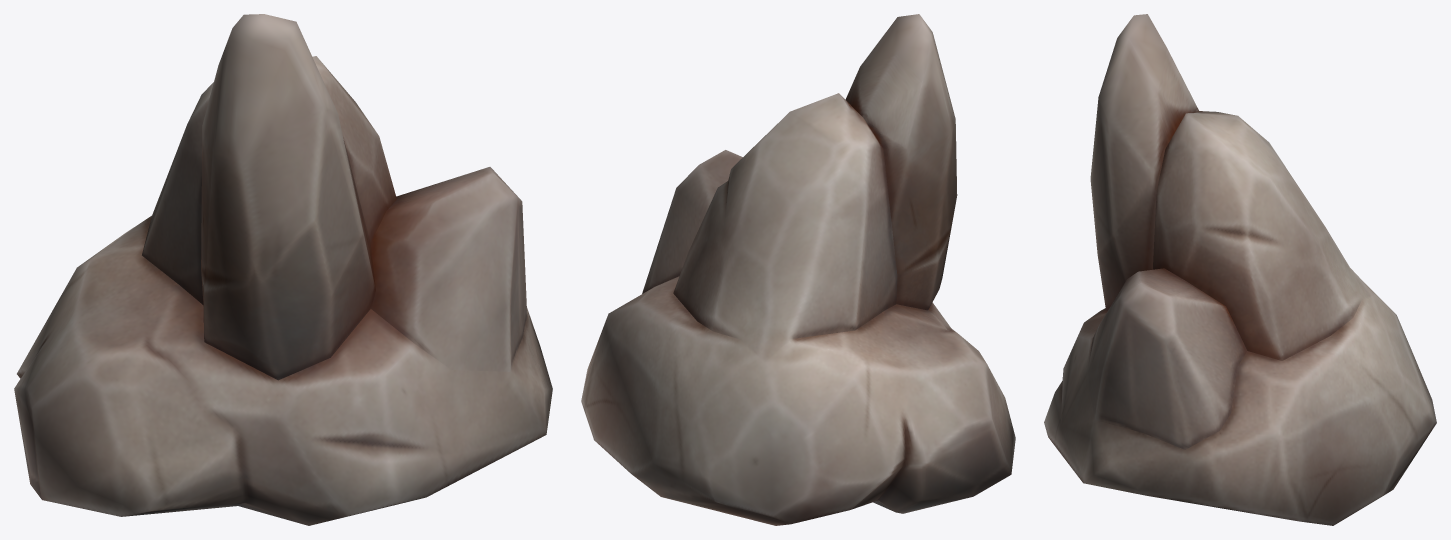
File: SM_Gem_Iron_003.fbx
The picture shows the model from 3 angles, left to right: view 1: azimuth 30°, elevation 25°; view 2: azimuth 150°, elevation 25°; view 3: azimuth 270°, elevation 25°; orthographic projection. The views are drawn at different scales.
Visible parts, largest first — view 1: SM_Gem_Iron_003; view 2: SM_Gem_Iron_003; view 3: SM_Gem_Iron_003.
Part boxes in pixels (x1,y1,x2,y2): SM_Gem_Iron_003: [14, 14, 552, 525]; SM_Gem_Iron_003: [581, 14, 1015, 525]; SM_Gem_Iron_003: [1044, 14, 1436, 525].
Bounding box in the file's own units: 45.17 × 45.15 × 38.41.
